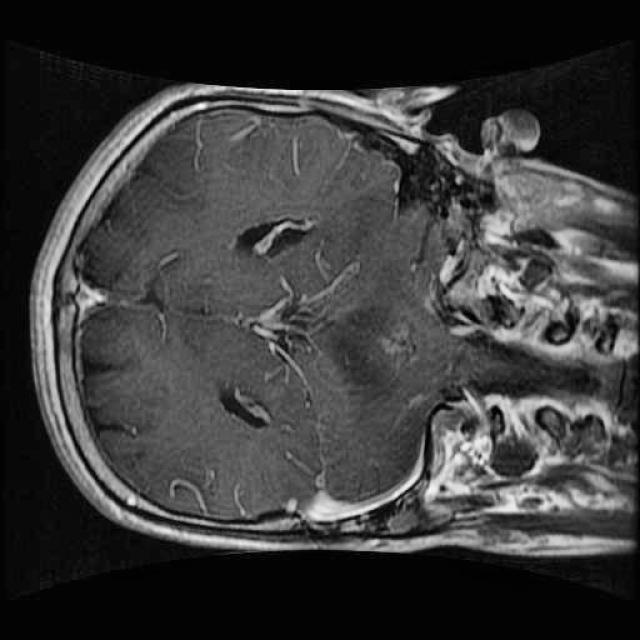Tumor: (292, 282, 433, 418)
